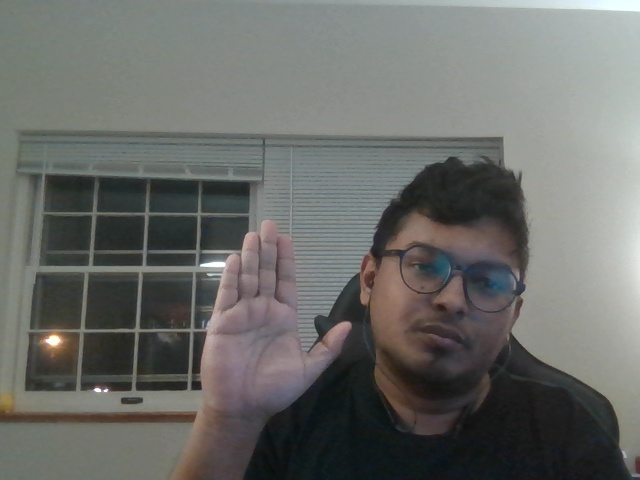hello: (208, 210, 352, 437)
